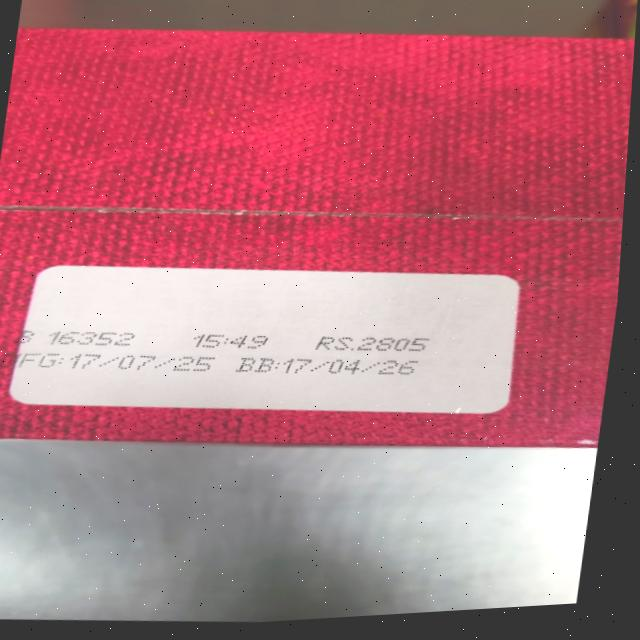BB: (237, 345, 425, 386)
Batch: (17, 323, 140, 353)
MFG: (8, 340, 218, 384)
RS: (313, 328, 434, 358)
TimeStamp: (189, 328, 273, 353)
